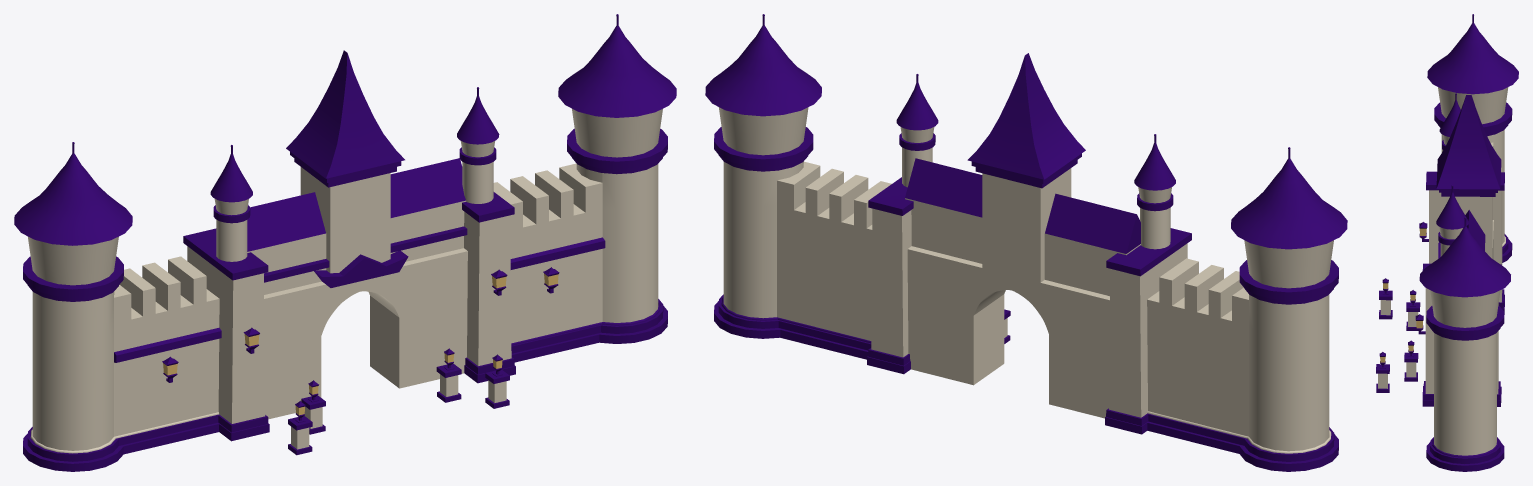
Rendered from F_Castle Entry .fbx.
3 renders of one model, left to right at view 1: azimuth 30°, elevation 25°; view 2: azimuth 150°, elevation 25°; view 3: azimuth 270°, elevation 25°, orthographic. The views are drawn at different scales.
Visible parts, largest first — view 1: F_CastleEntry_01; view 2: F_CastleEntry_01; view 3: F_CastleEntry_01.
Part boxes in pixels (<box>): F_CastleEntry_01: <box>14,14,676,471</box>; F_CastleEntry_01: <box>705,14,1347,471</box>; F_CastleEntry_01: <box>1376,14,1518,471</box>.
Bounding box in the file's own units: 3241 × 1614 × 808.
Materials: 1 (1 with a texture image).
